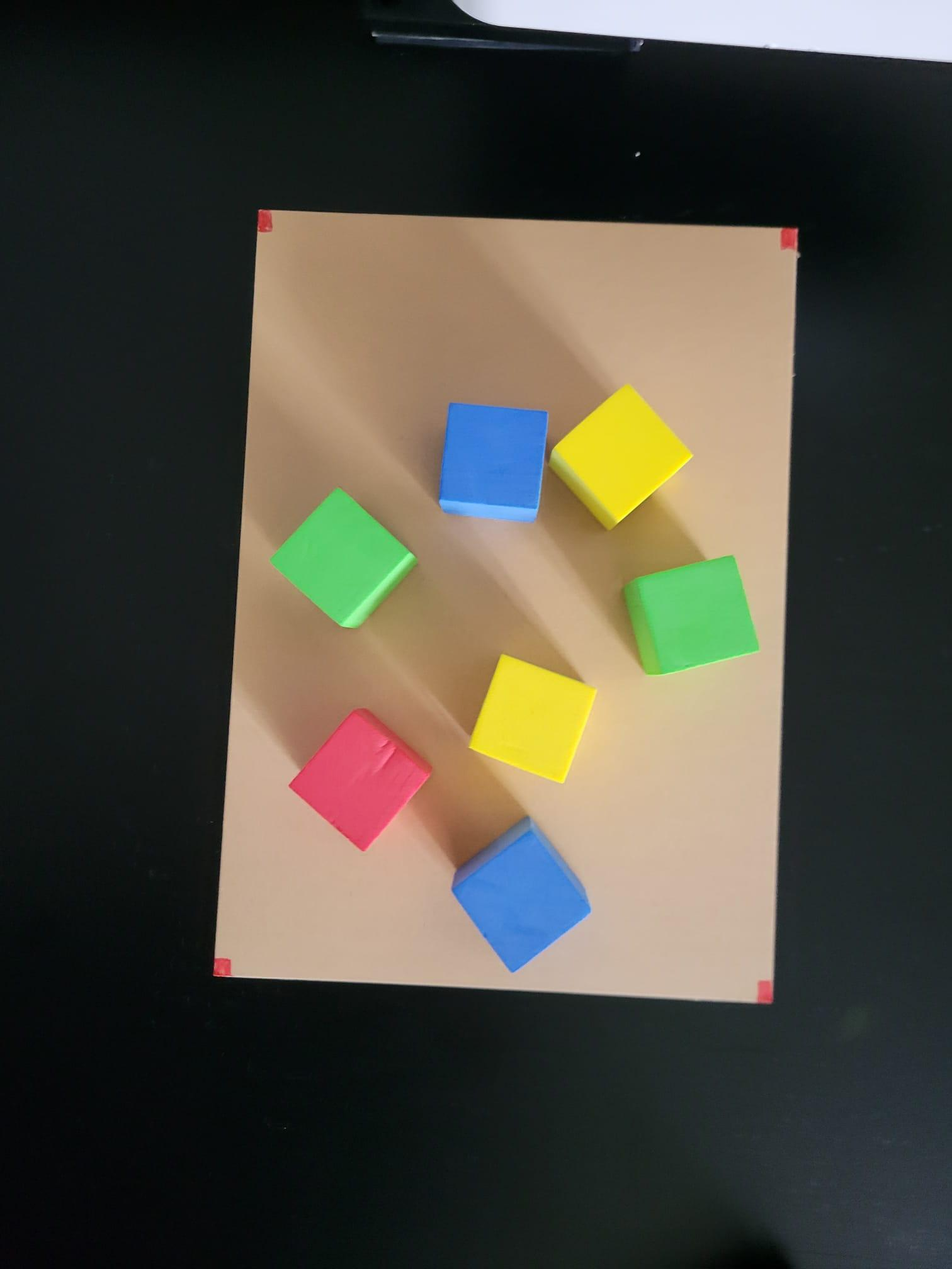cube: (549, 376, 699, 532), (283, 707, 436, 853), (266, 489, 416, 628), (464, 648, 600, 788), (622, 546, 762, 678), (438, 400, 551, 524)
